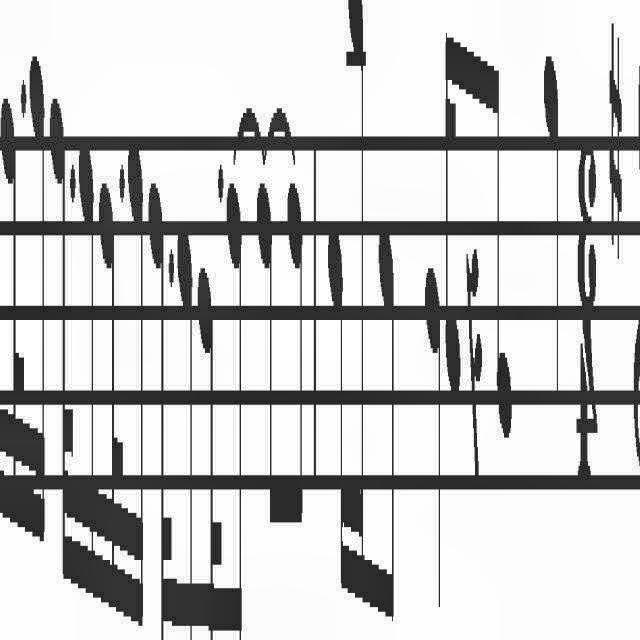Diez: (608, 22, 624, 264)
Eighth-note: (491, 46, 514, 450), (376, 223, 396, 629), (254, 173, 274, 547), (286, 174, 302, 542)
Quarter-note: (543, 52, 561, 410), (424, 262, 442, 616)
Sixteenth-note: (348, 1, 372, 636), (78, 136, 102, 640), (28, 49, 48, 562), (129, 132, 147, 640), (326, 210, 346, 634), (176, 216, 196, 640), (226, 169, 244, 639), (443, 26, 461, 410)
